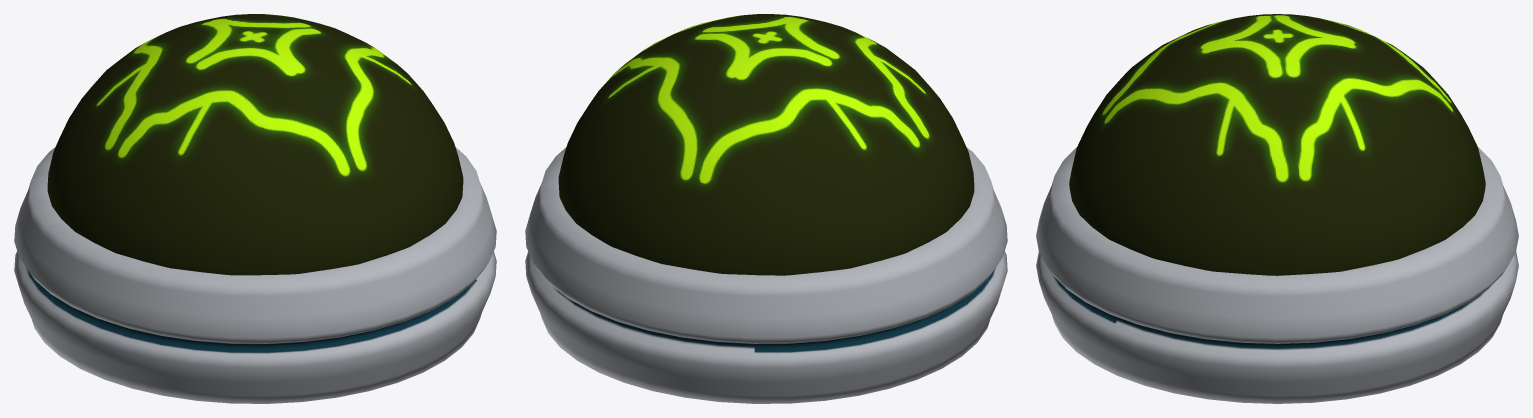
The model's file is SecurityCamera2.fbx.
3 renders of one model, left to right at view 1: azimuth 30°, elevation 25°; view 2: azimuth 150°, elevation 25°; view 3: azimuth 270°, elevation 25°, orthographic.
Parts seen in each view (by area): view 1: pCylinder4; view 2: pCylinder4; view 3: pCylinder4.
Boxes of the visible parts, box(x1,y1,x2,y2) form: pCylinder4: box(14, 14, 496, 403); pCylinder4: box(525, 14, 1007, 403); pCylinder4: box(1036, 14, 1518, 403).
Bounding box in the file's own units: 5659 × 3577 × 5659.
1 material, 1 textured.
